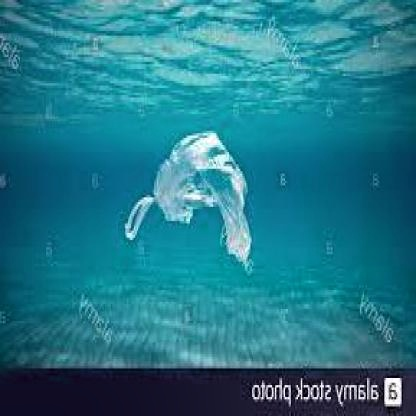pbag: (124, 131, 252, 264)
